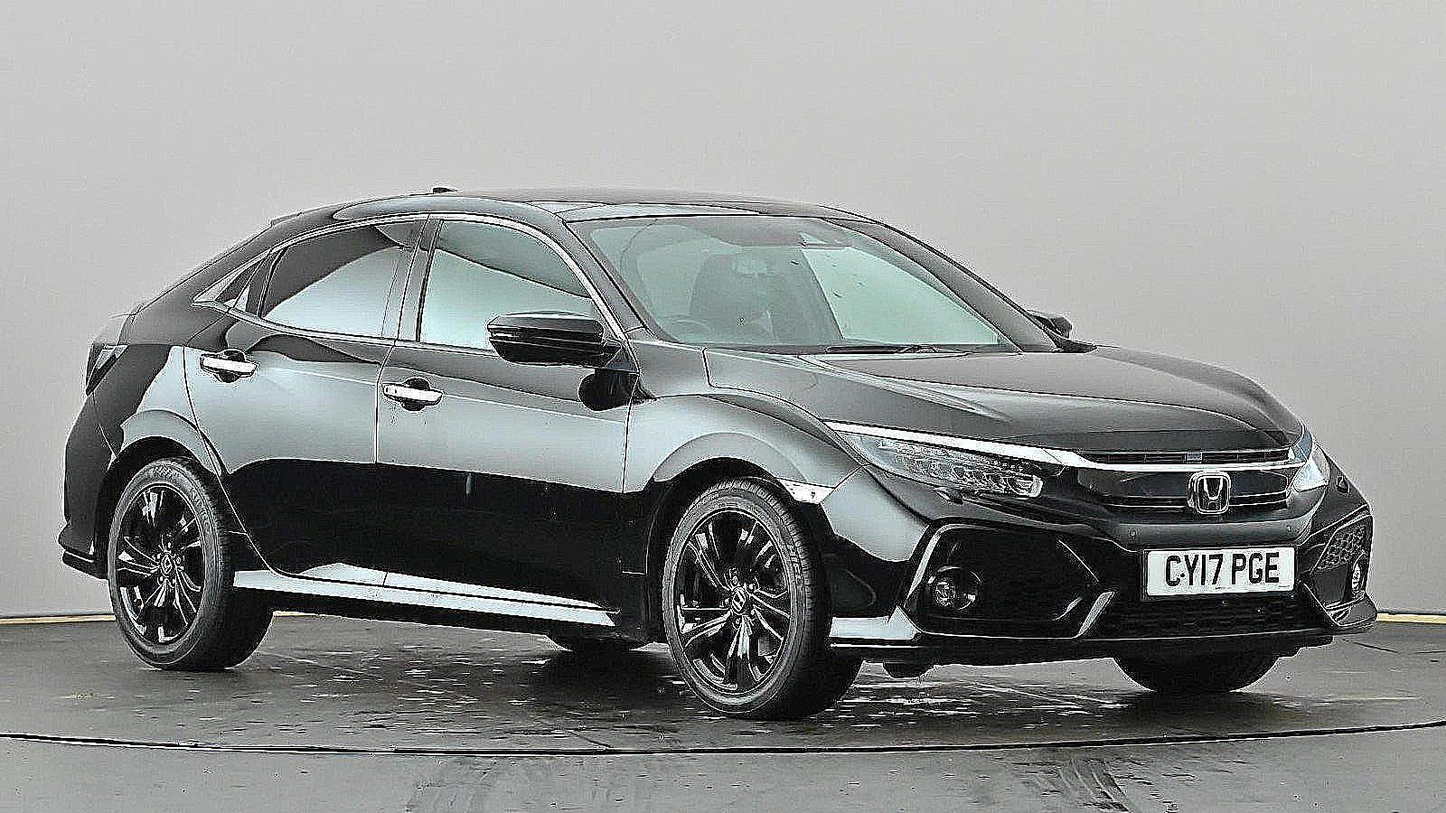Car hood: (692, 336, 1310, 461)
Driver-s door - -F-R-: (376, 197, 619, 612)
Fender - -F-R-: (618, 322, 863, 601)
Fender - -R-R-: (93, 300, 253, 602)
Front bumper: (803, 457, 1402, 666)
Headlight - -L-: (1271, 423, 1345, 509)
Headlight - -R-: (819, 410, 1057, 505)
Passenger-s door - -R-R-: (177, 201, 412, 605)
Rear bumper: (51, 394, 131, 582)
Rear light - -R-: (76, 291, 149, 407)
Side bumper - -R-: (213, 528, 673, 650)
Side mirror - -L-: (1016, 295, 1102, 349)
Side mirror - -R-: (481, 300, 622, 376)
